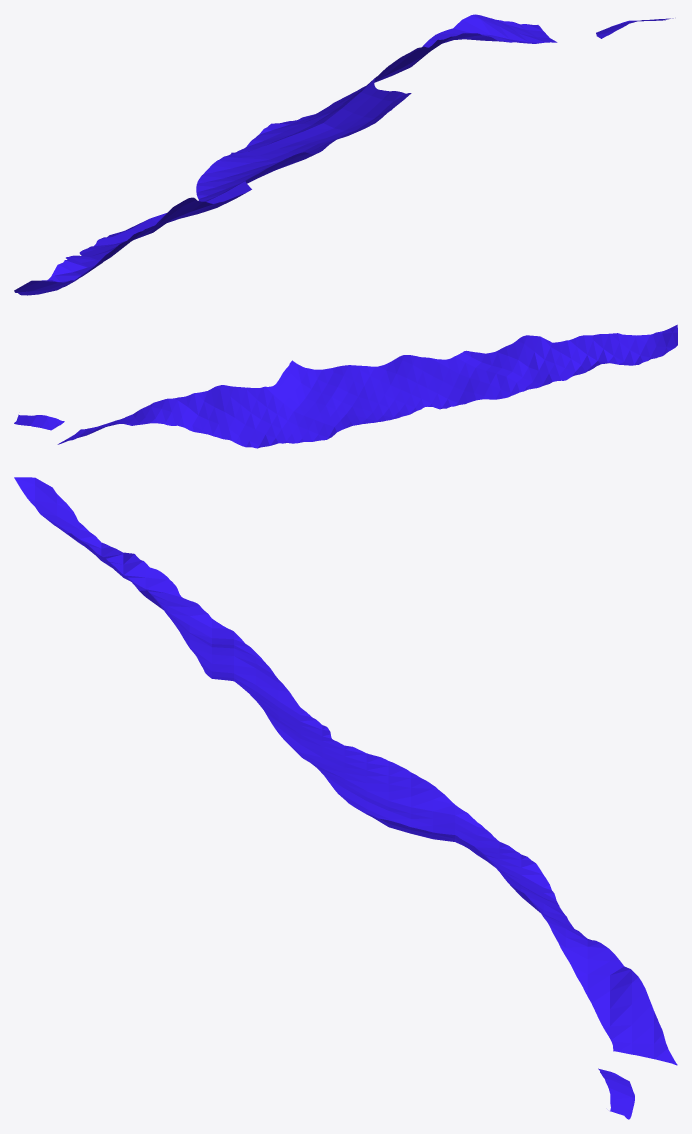
Rendered from 2_Diabase (0).dae.
The picture shows the model from 3 angles, top to bottom: view 1: azimuth 30°, elevation 25°; view 2: azimuth 150°, elevation 25°; view 3: azimuth 270°, elevation 25°; orthographic projection. The views are drawn at different scales.
Visible parts, largest first — view 1: Object; view 2: Object (×2); view 3: Object (×2).
Boxes of the visible parts, left/top/right/bottom form: Object: left=14, top=14, right=557, bottom=295; Object (×2): left=14, top=324, right=677, bottom=448; Object (×2): left=14, top=477, right=677, bottom=1119.
Bounding box in the file's own units: 42.97 × 8.07 × 25.91.
